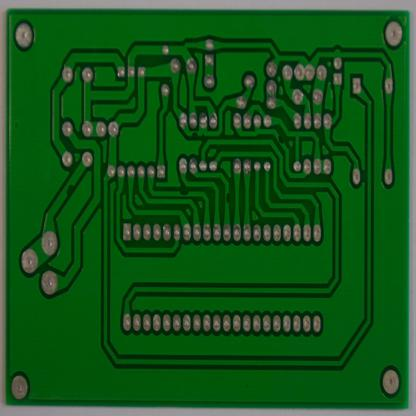mouse_bite: (63, 183, 76, 197), (177, 188, 192, 199), (275, 132, 285, 147), (223, 192, 233, 206), (189, 129, 200, 140)
